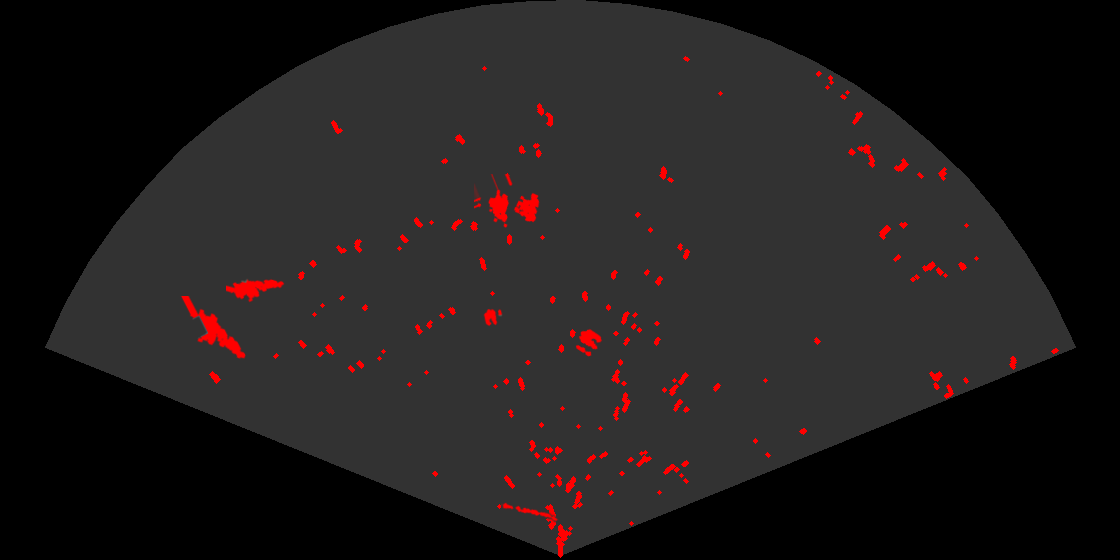ball: (574, 327, 604, 358), (482, 307, 504, 328)
cage: (474, 174, 541, 229)
chain: (501, 501, 560, 523)
frogman: (179, 296, 247, 361), (226, 277, 285, 304)
